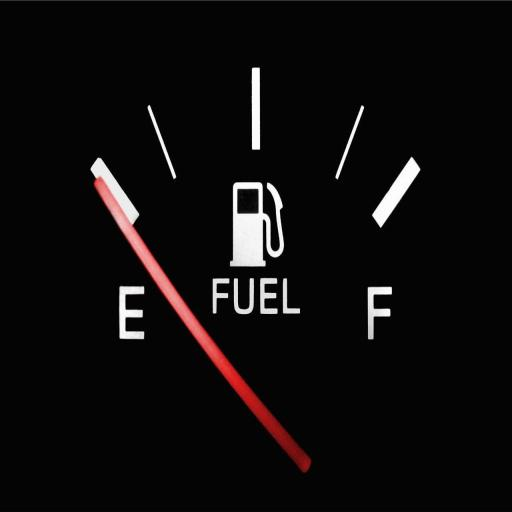empty: (114, 280, 149, 350)
fuel_icon: (228, 176, 288, 268)
full: (363, 274, 399, 348)
guage_area: (63, 32, 475, 512)
needle_center: (284, 431, 353, 512)
needle_tip: (87, 170, 121, 220)
